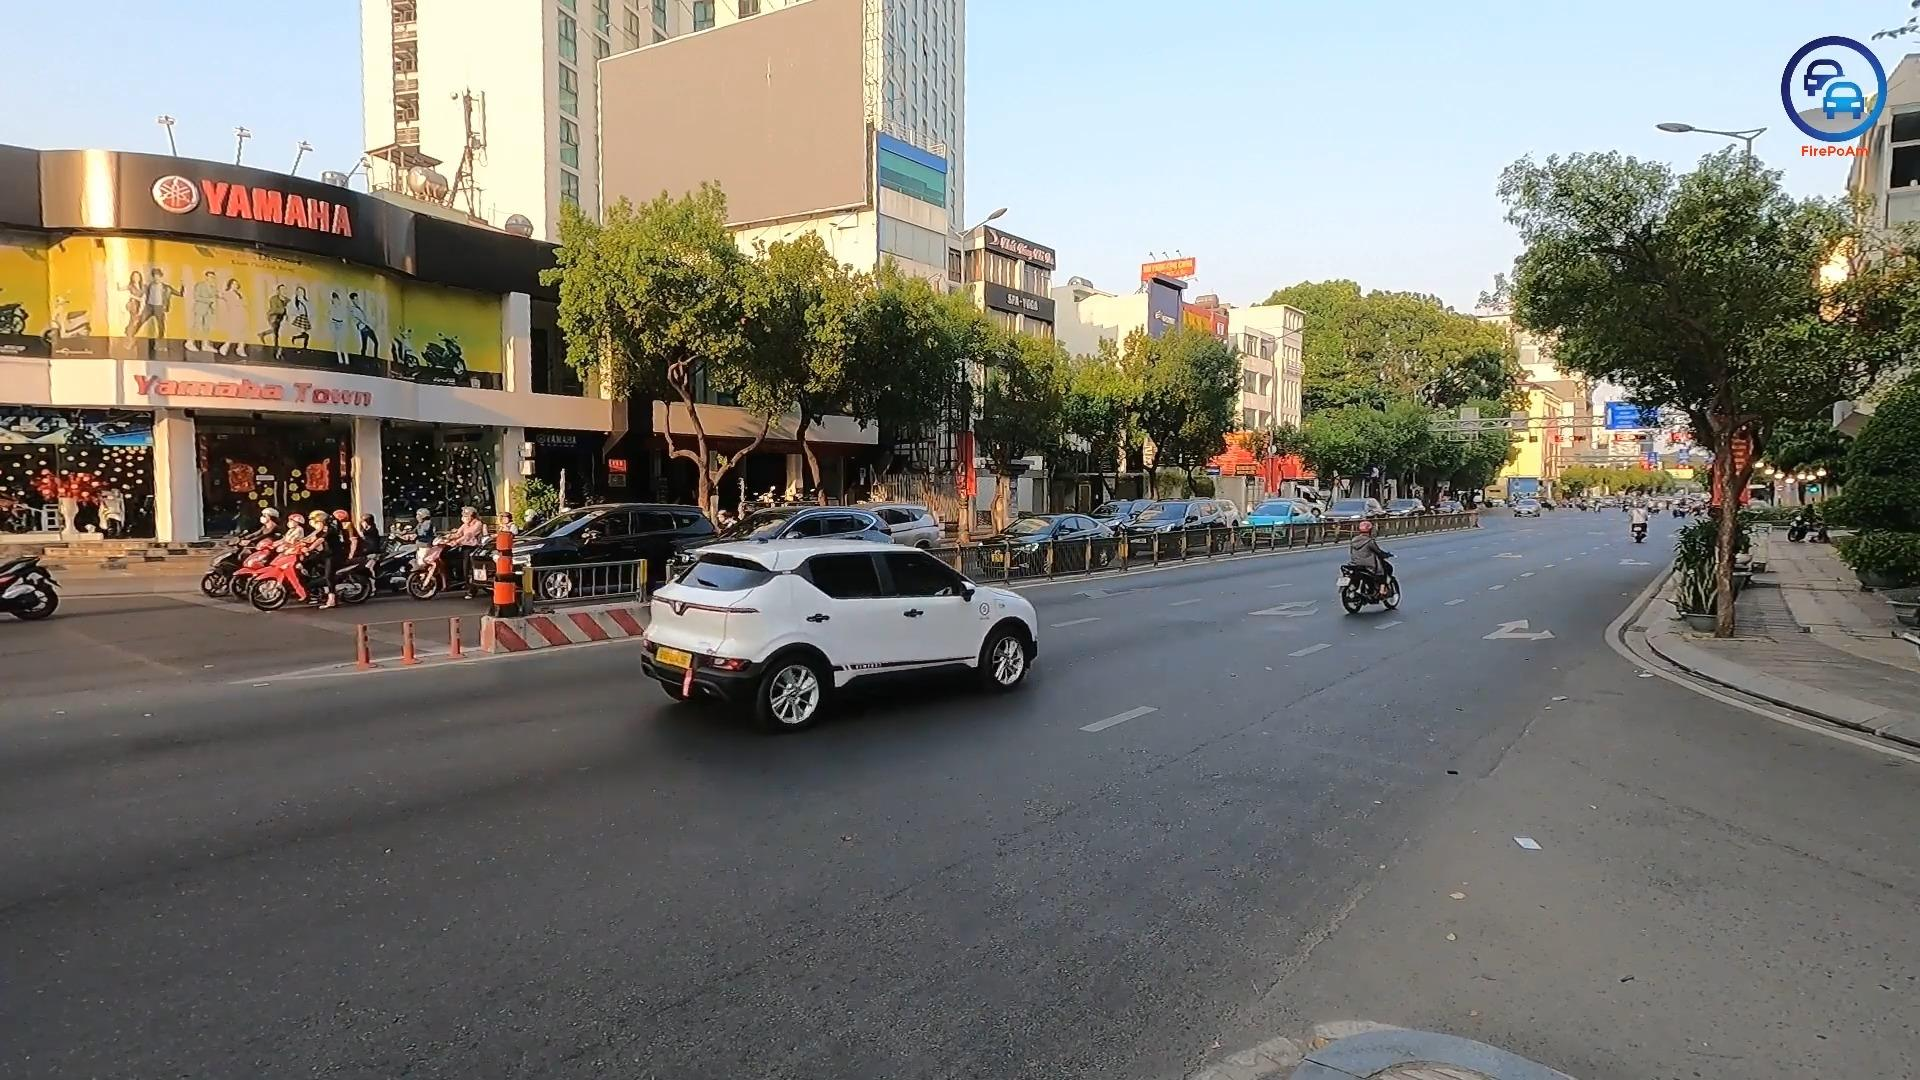bien_so: (653, 645, 692, 670)
